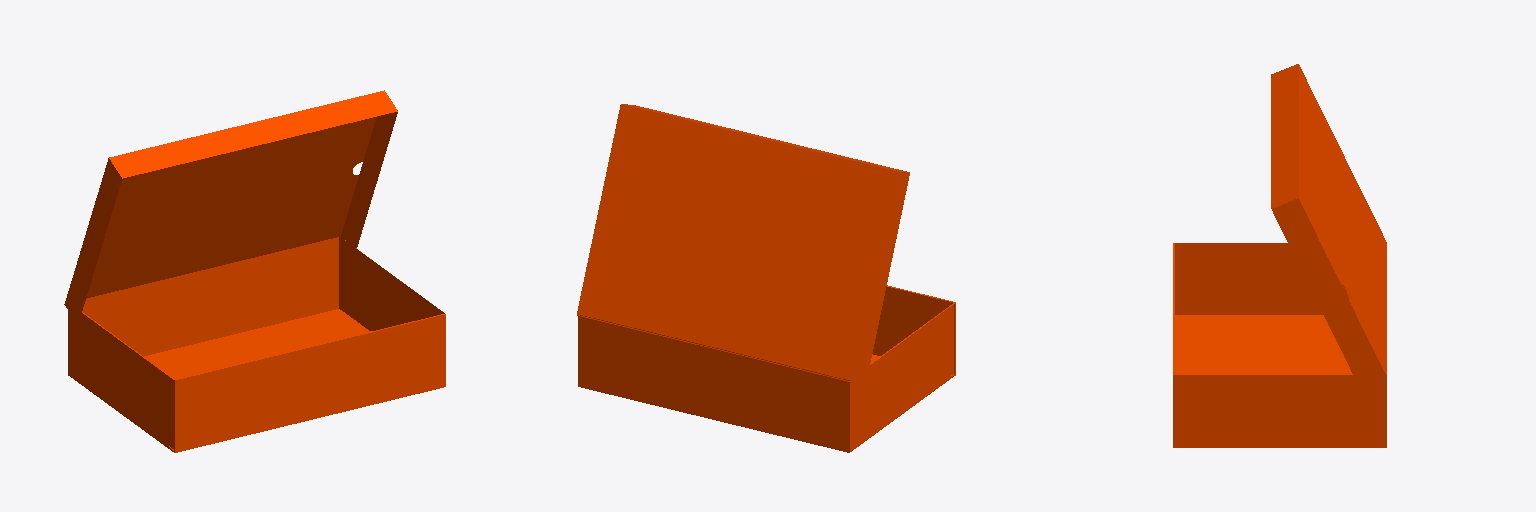
File: box_shoebox.obj
The picture shows the model from 3 angles: view 1: azimuth 30°, elevation 25°; view 2: azimuth 150°, elevation 25°; view 3: azimuth 270°, elevation 25°; orthographic projection.
Parts seen in each view (by area): view 1: Mesh2 Group1 Nike_Box1 Model, Mesh1 Group2 Group1 Nike_Box1 Model; view 2: Mesh1 Group2 Group1 Nike_Box1 Model, Mesh2 Group1 Nike_Box1 Model; view 3: Mesh2 Group1 Nike_Box1 Model, Mesh1 Group2 Group1 Nike_Box1 Model.
Part boxes in pixels (x1,y1,x2,y2): Mesh2 Group1 Nike_Box1 Model: (68, 237, 445, 452); Mesh1 Group2 Group1 Nike_Box1 Model: (64, 90, 397, 324); Mesh1 Group2 Group1 Nike_Box1 Model: (577, 104, 909, 383); Mesh2 Group1 Nike_Box1 Model: (578, 285, 955, 452); Mesh2 Group1 Nike_Box1 Model: (1173, 243, 1386, 447); Mesh1 Group2 Group1 Nike_Box1 Model: (1271, 64, 1386, 387).
Size of the model in its own units: 126 by 109 by 84.81.